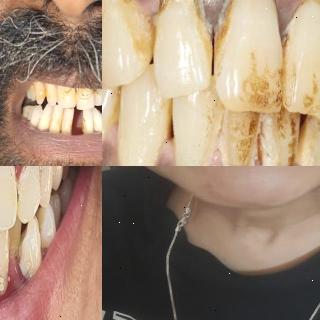Gum Swelling: (3, 258, 24, 290), (11, 166, 29, 184)
calculus: (212, 0, 282, 37), (154, 0, 206, 36), (172, 148, 214, 166), (260, 146, 296, 166), (298, 0, 320, 20), (102, 0, 133, 14)
maligned: (20, 204, 40, 280), (5, 204, 20, 264)
plaque: (189, 12, 215, 76), (122, 7, 152, 62), (204, 100, 236, 151), (246, 116, 278, 166), (91, 118, 98, 132), (43, 82, 50, 92)
stains: (215, 0, 279, 106), (281, 22, 320, 117), (259, 108, 299, 166), (225, 108, 261, 166), (102, 77, 124, 138), (301, 118, 320, 166), (48, 116, 62, 130), (39, 87, 51, 101), (62, 86, 72, 102), (78, 116, 88, 132), (63, 117, 73, 129), (77, 88, 85, 101), (45, 114, 52, 128), (53, 87, 59, 101), (31, 85, 36, 98), (94, 88, 100, 98)
